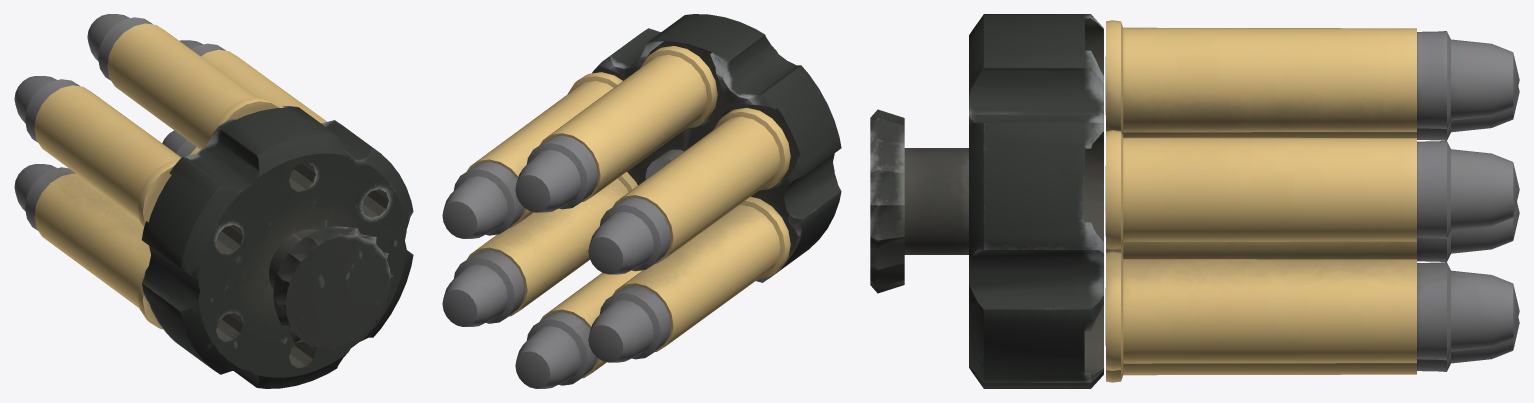
File: carregador_rapido_38.glb
The picture shows the model from 3 angles, left to right: view 1: azimuth 30°, elevation 25°; view 2: azimuth 150°, elevation 25°; view 3: azimuth 270°, elevation 25°; orthographic projection. The views are drawn at different scales.
Visible parts, largest first — view 1: carregador_rapido_38_carregador; view 2: carregador_rapido_38_carregador; view 3: carregador_rapido_38_carregador.
Part boxes in pixels (box(x1,y1,x2,y2)): carregador_rapido_38_carregador: box(14, 14, 413, 388); carregador_rapido_38_carregador: box(442, 14, 841, 388); carregador_rapido_38_carregador: box(870, 14, 1519, 388).
Bounding box in the file's own units: 0.0346 × 0.036 × 0.0606.
Materials: 1 (1 with a texture image).
